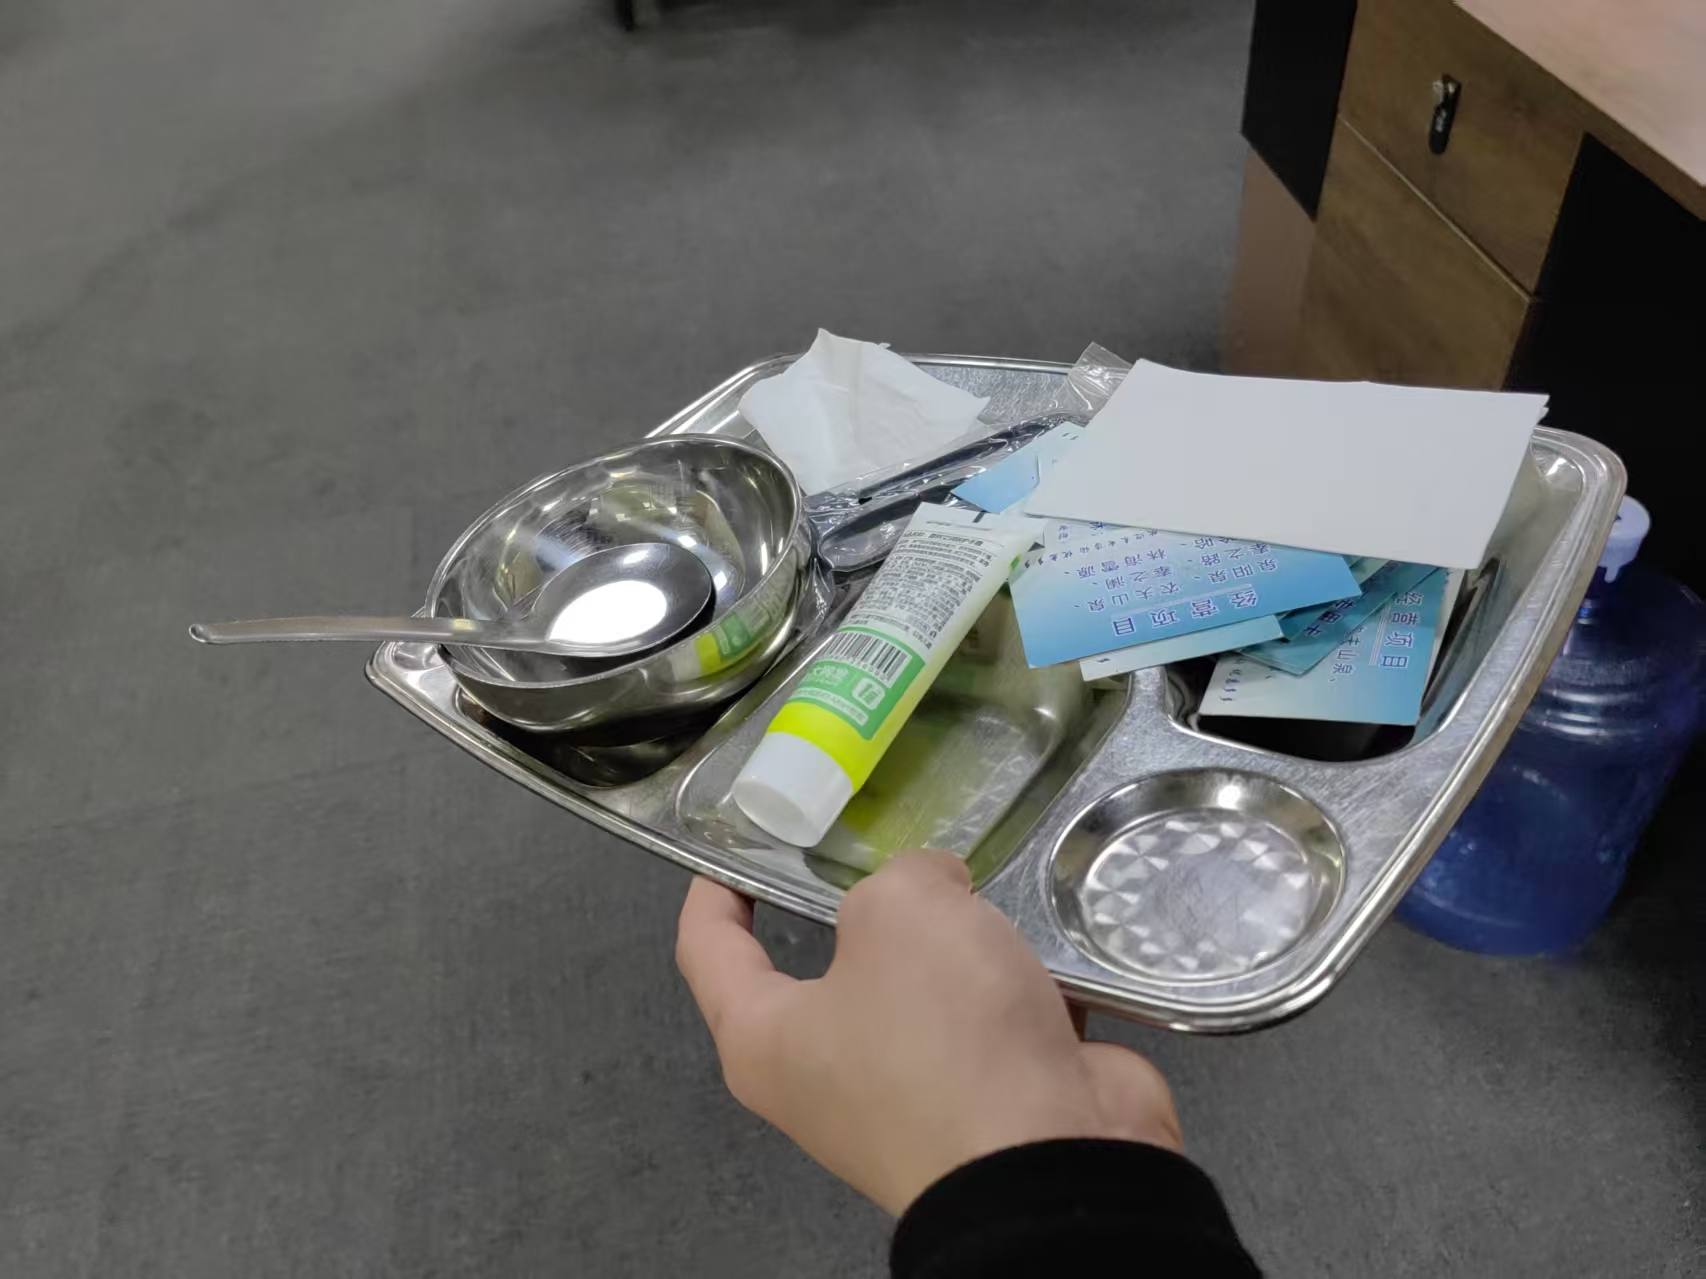moderate: (730, 374, 1469, 846)
plate: (361, 349, 1628, 1038)
tissue: (1016, 355, 1553, 571), (736, 324, 997, 496)
